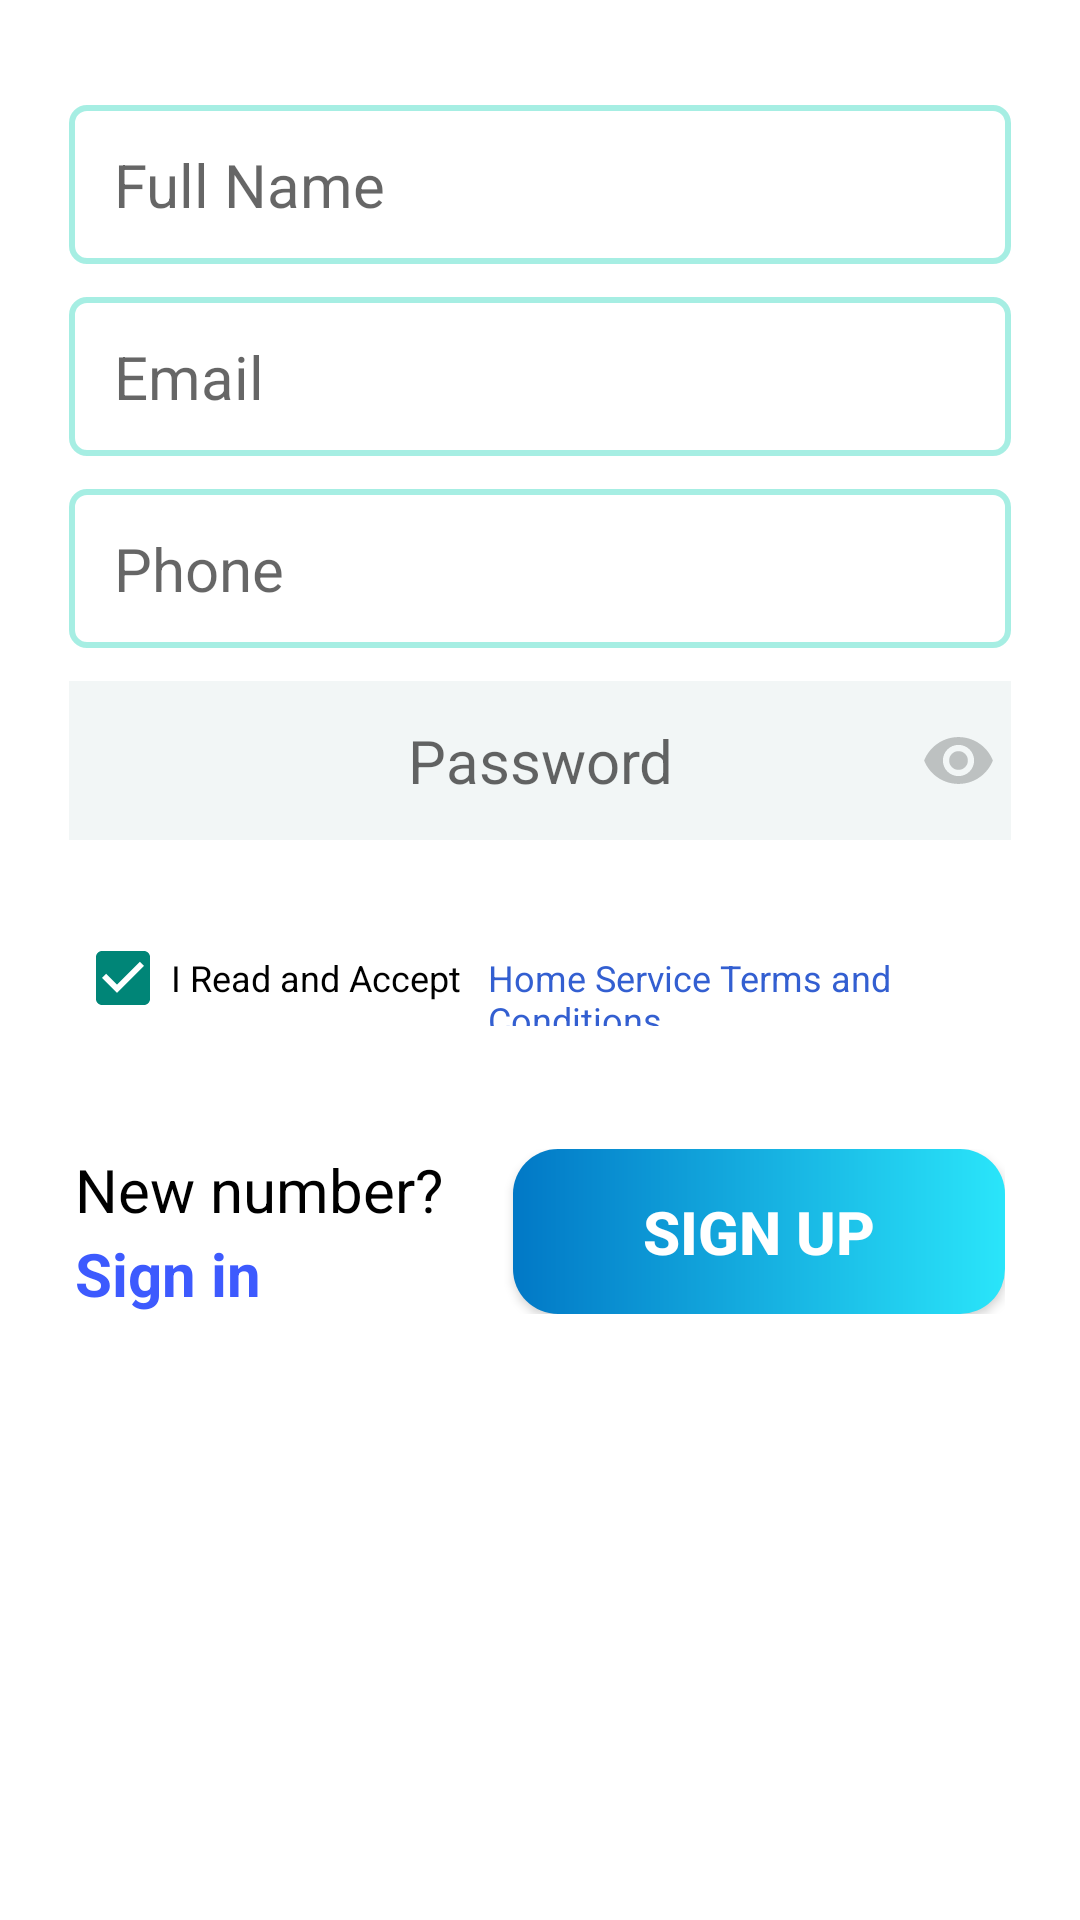

Screen size 1080w x 1920h. Icon name, then its center in pixels as [x,y]:
eye: [958,760]
